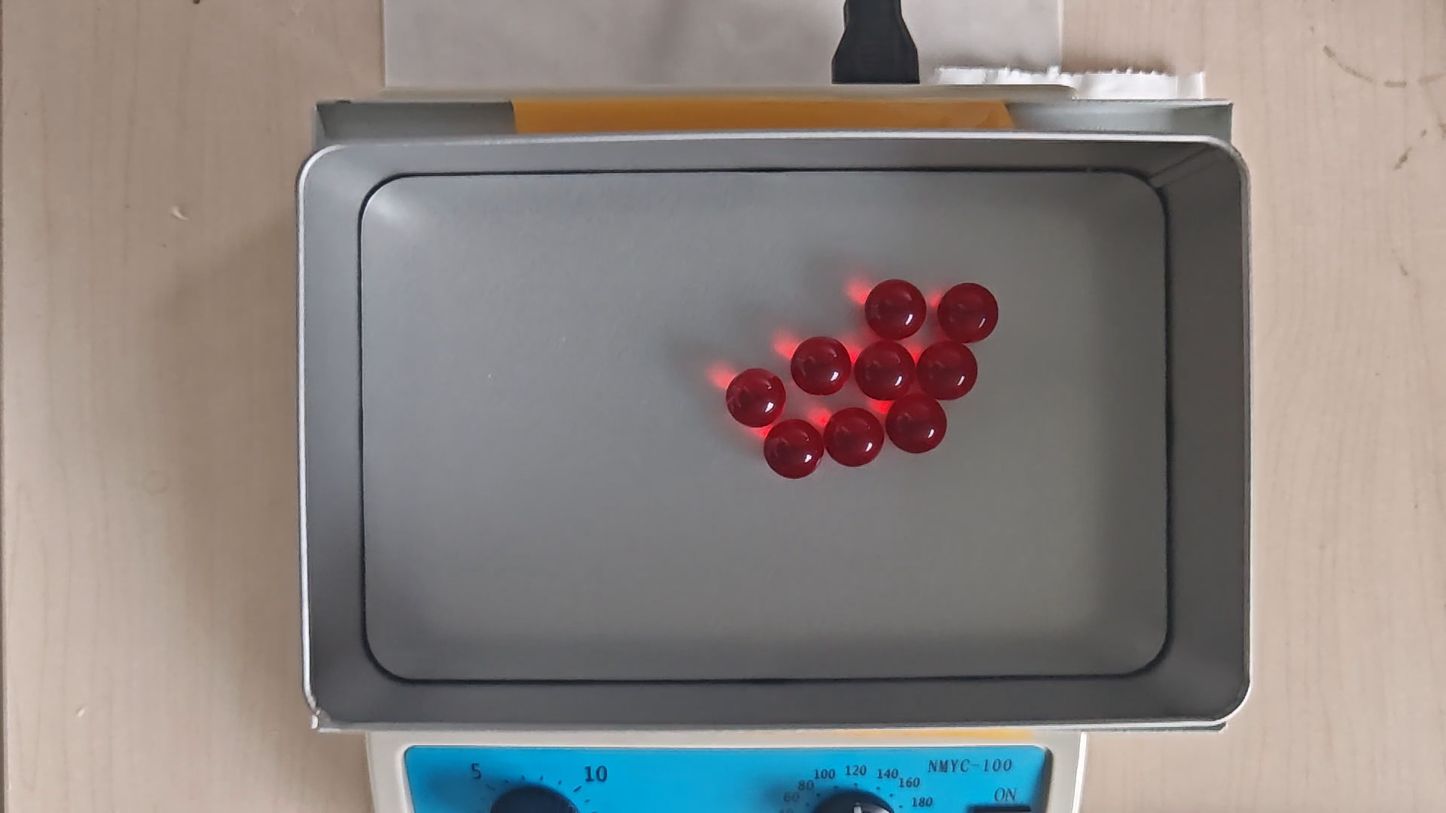ball: (886, 393, 948, 455), (865, 279, 926, 341), (939, 282, 999, 343), (726, 368, 786, 429), (825, 407, 884, 469), (764, 420, 824, 480), (792, 336, 851, 397), (855, 342, 917, 400), (919, 341, 978, 400)
container: (361, 170, 1168, 681)
